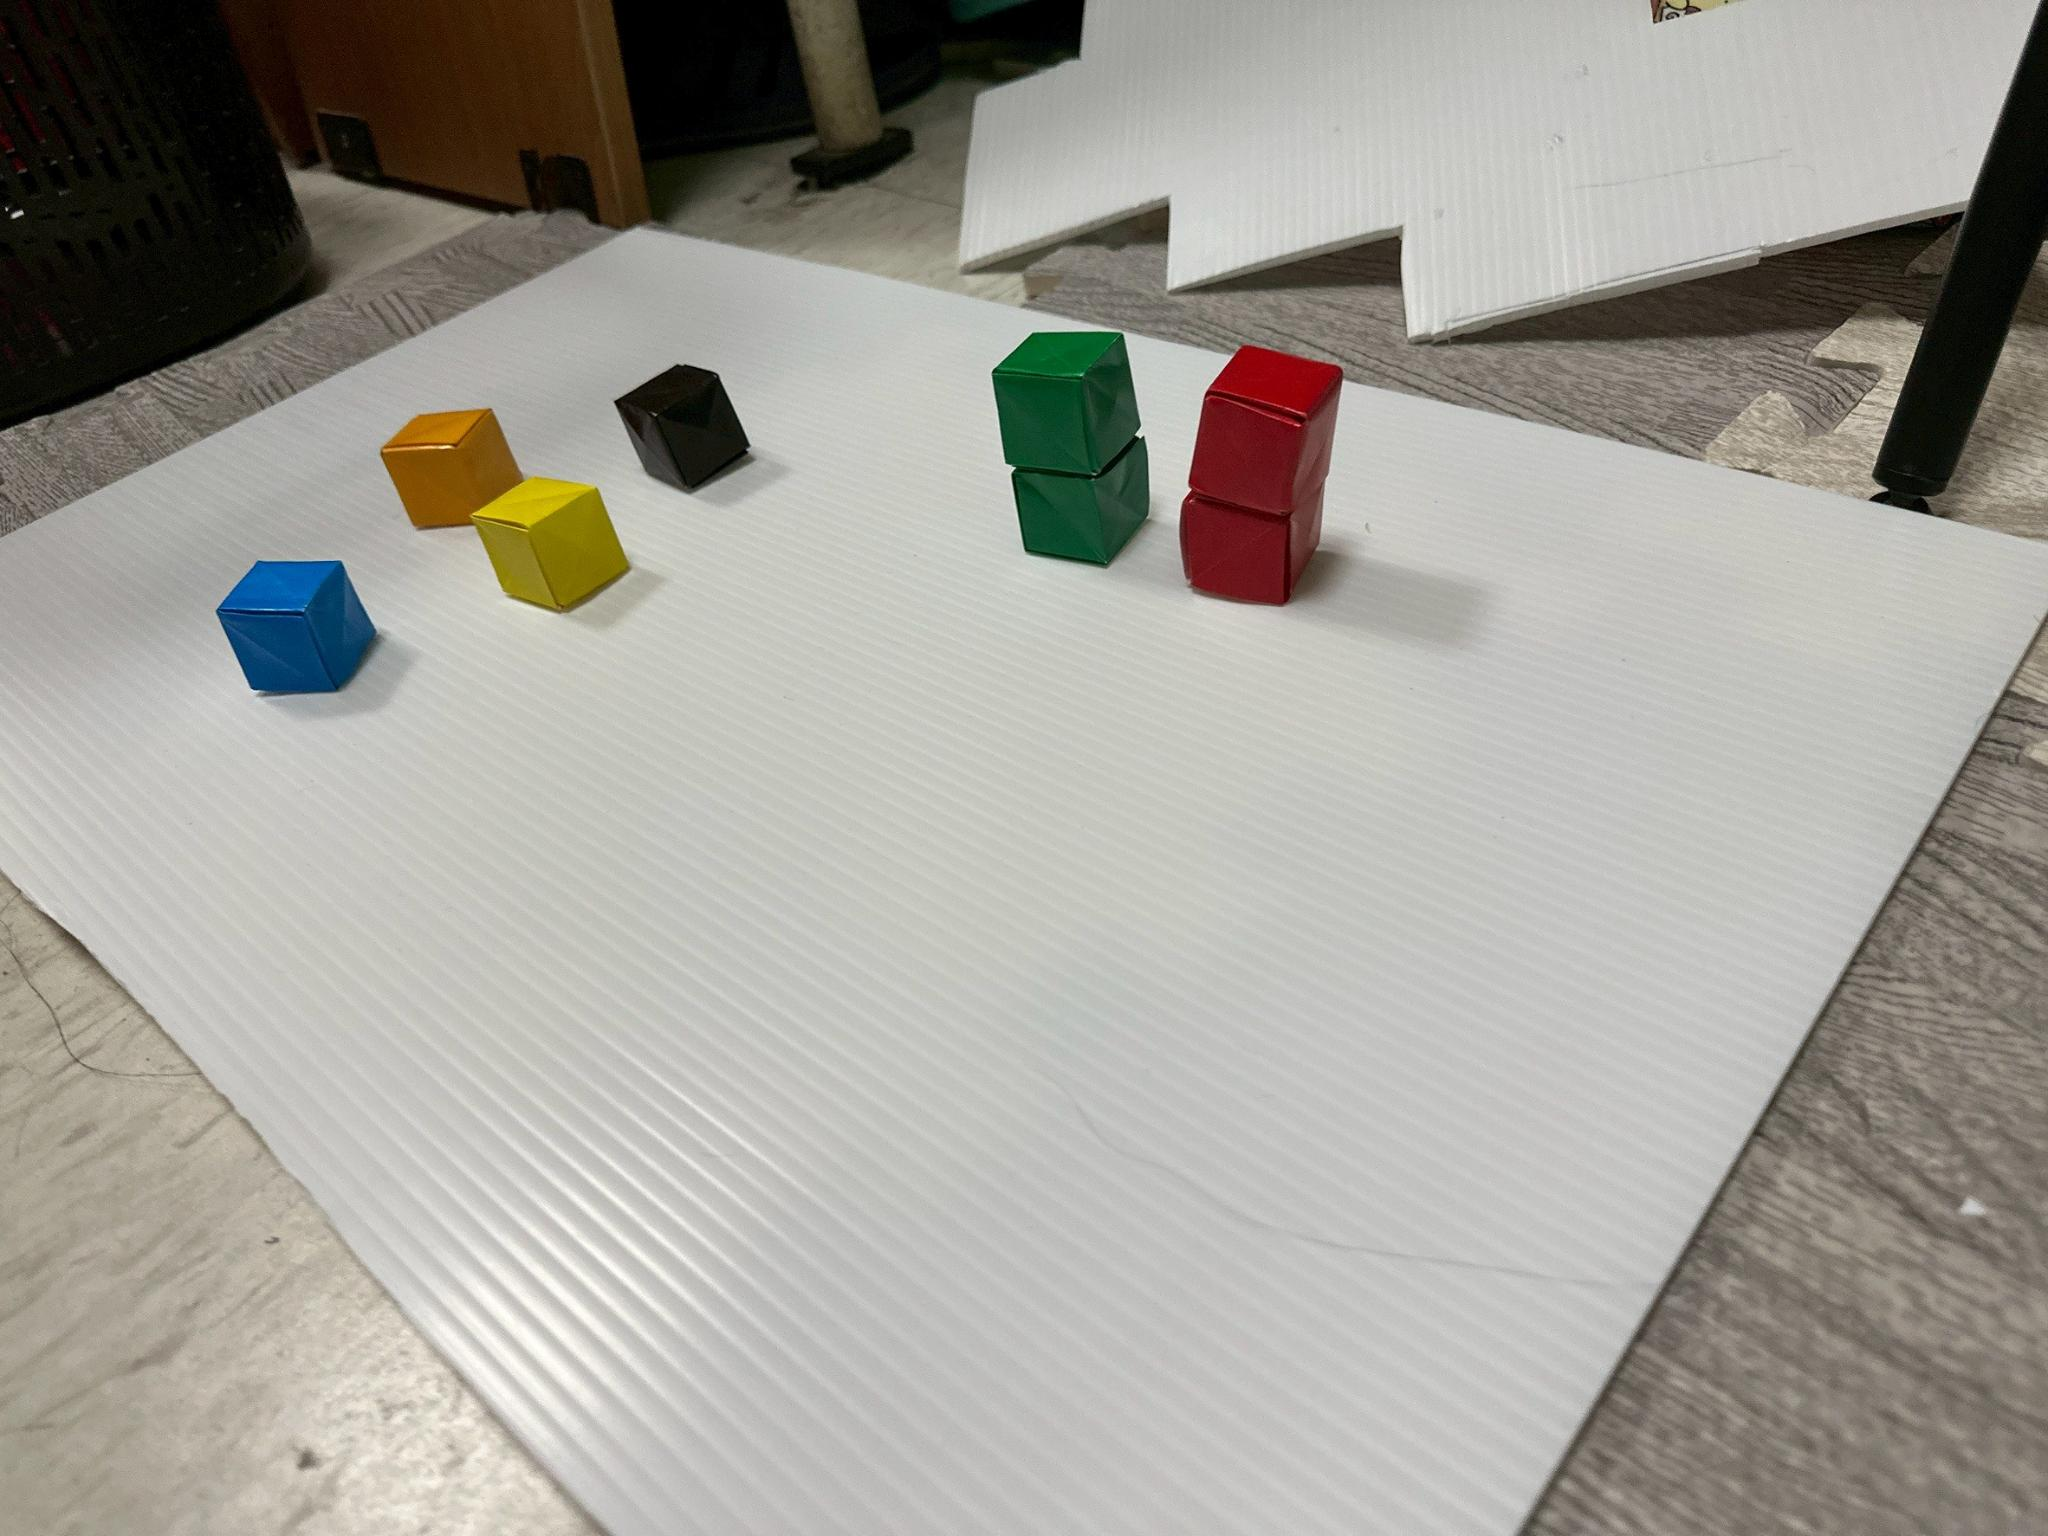cube: (1188, 347, 1342, 515), (993, 332, 1140, 476), (218, 561, 376, 694), (472, 478, 629, 608), (1011, 437, 1148, 565), (381, 408, 522, 529), (614, 366, 748, 489), (1180, 489, 1319, 605)
